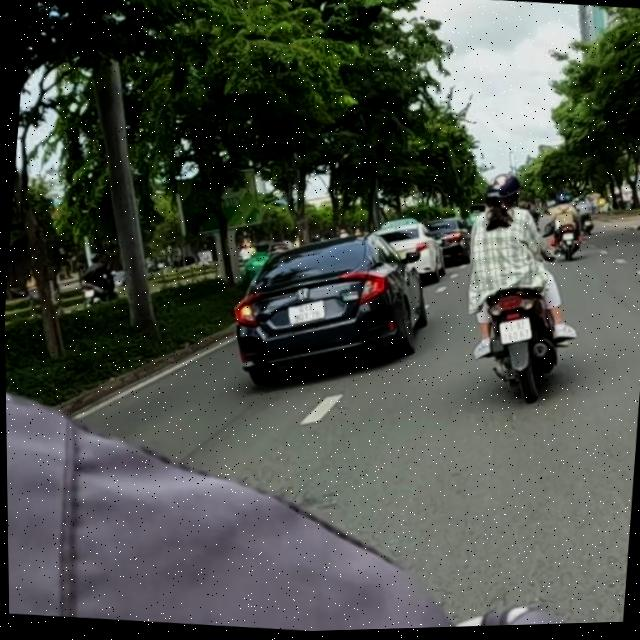car: (228, 221, 437, 401)
motorcycle: (466, 281, 573, 415), (550, 214, 592, 266)
plate: (277, 289, 333, 337), (491, 312, 537, 349)
